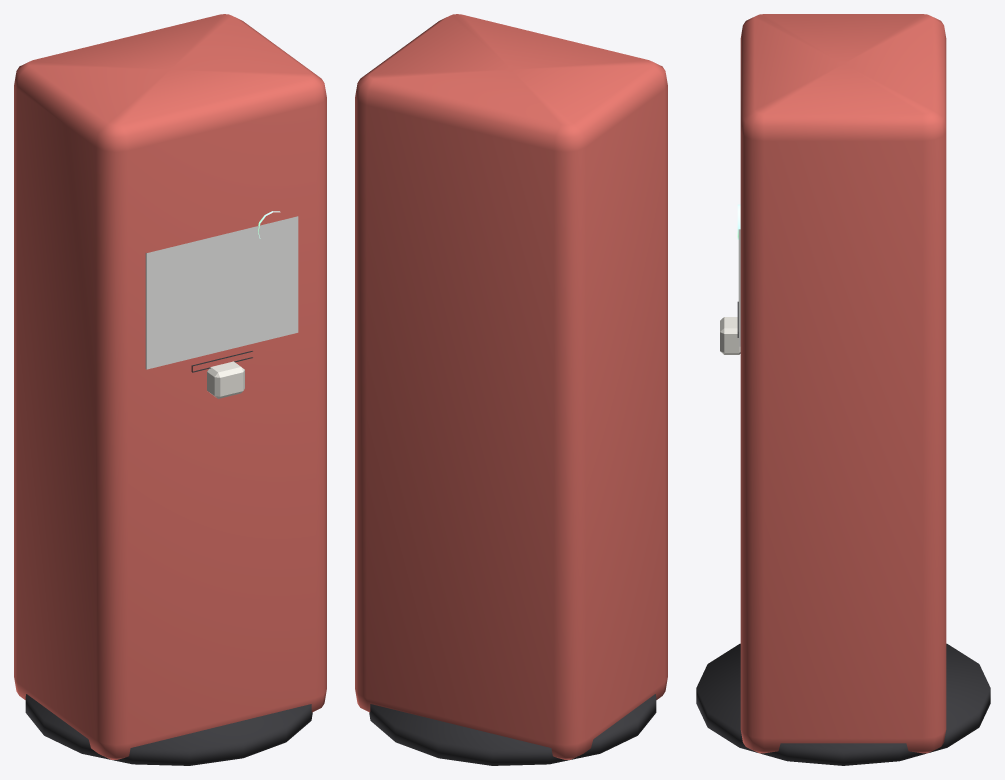
Rendered from ticket_machine.glb.
The picture shows the model from 3 angles, left to right: view 1: azimuth 30°, elevation 25°; view 2: azimuth 150°, elevation 25°; view 3: azimuth 270°, elevation 25°; orthographic projection.
Visible parts, largest first — view 1: ticket_machine; view 2: ticket_machine; view 3: ticket_machine.
Boxes of the visible parts, x1,y1,x2,y2 form: ticket_machine: (14,14,326,765); ticket_machine: (355,14,667,765); ticket_machine: (696,14,990,765).
Size of the model in its own units: 0.5 by 1.2 by 0.5.
